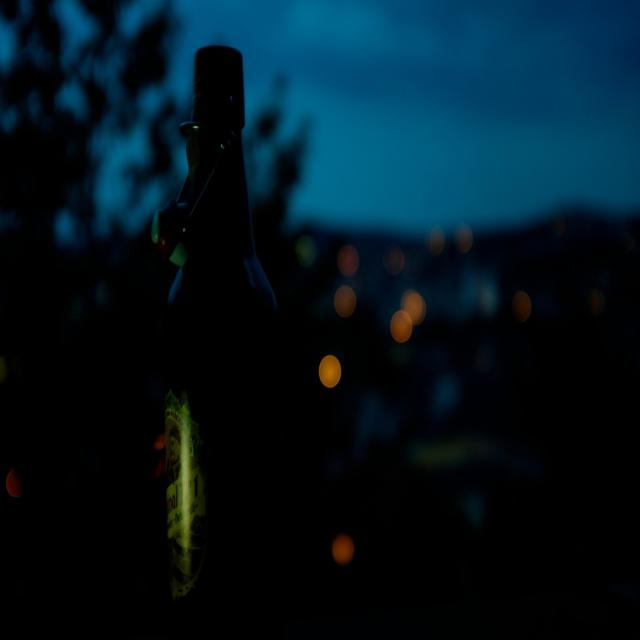Bottle: (138, 42, 317, 630)
